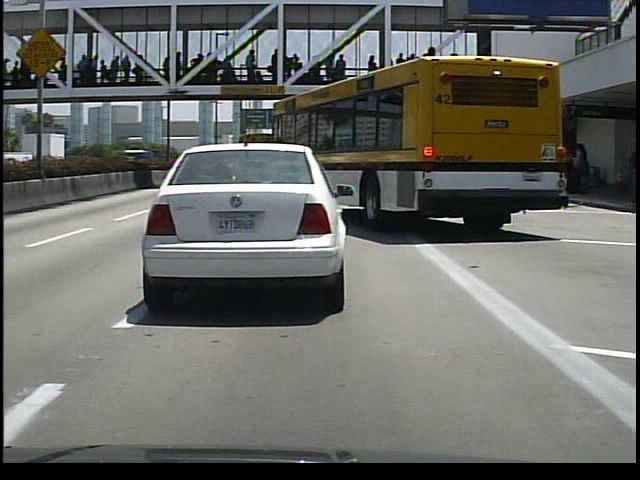person: (569, 138, 597, 198)
